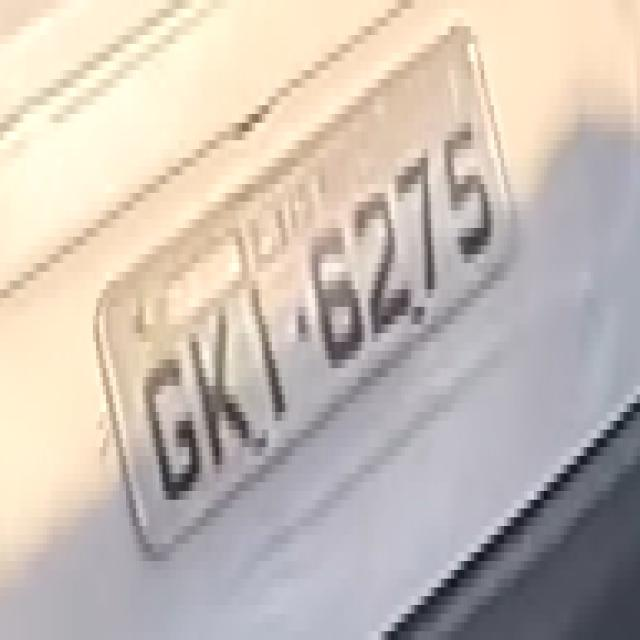Placa_mercosul_carro: (97, 28, 517, 552)
